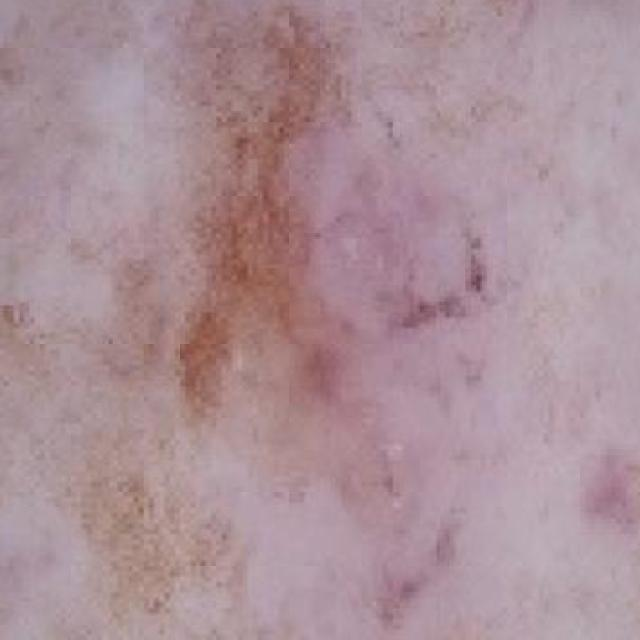BKL: (0, 18, 500, 618)
